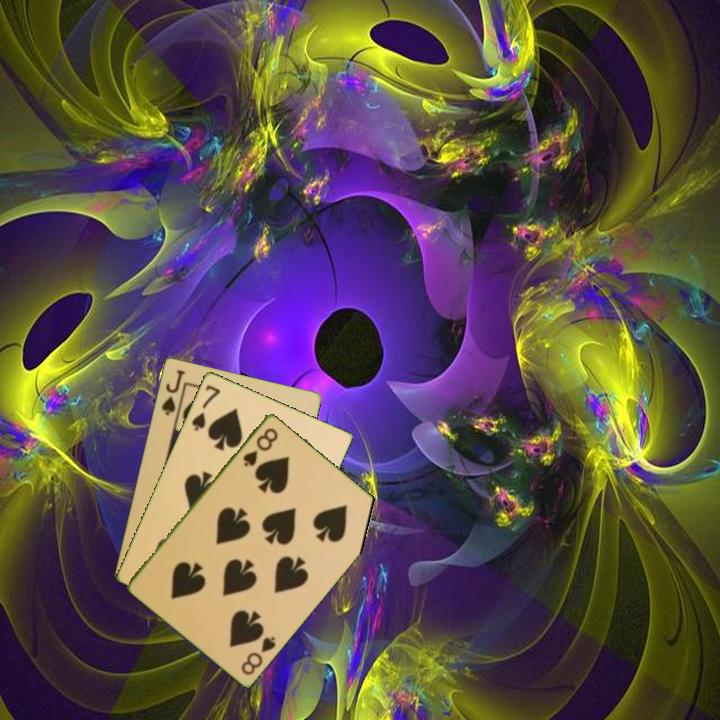7s: (188, 381, 223, 434)
8s: (237, 632, 279, 678), (239, 424, 281, 469)
Js: (158, 366, 188, 418)
